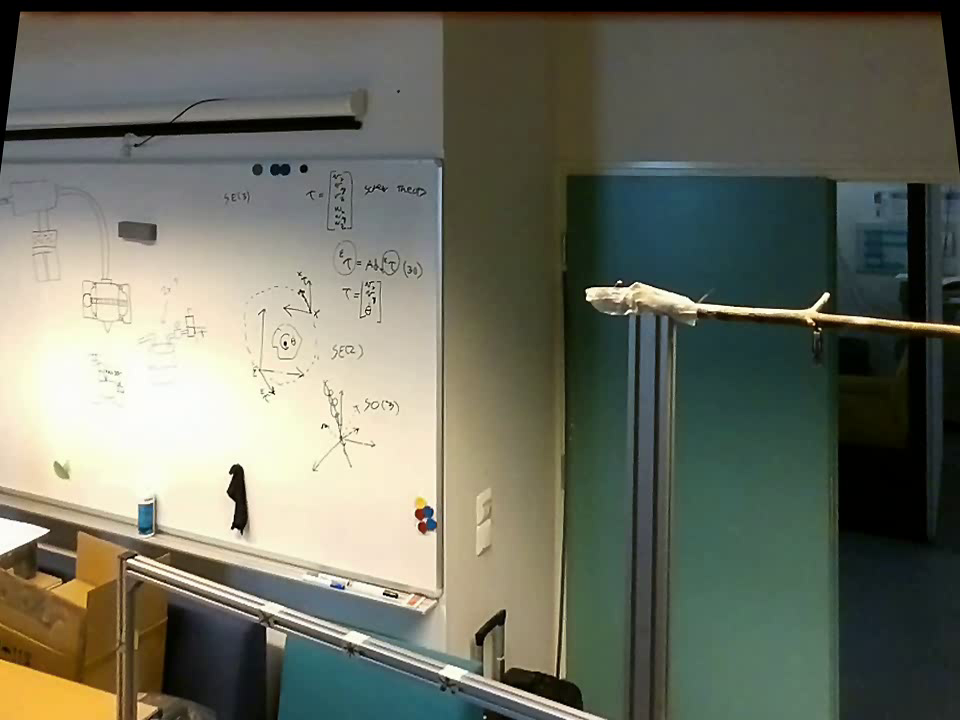aluminum_frame: (128, 548, 572, 719), (3, 481, 441, 612), (621, 317, 673, 717), (430, 152, 450, 602), (5, 152, 449, 168), (109, 549, 139, 719)
branch: (704, 278, 953, 344)
